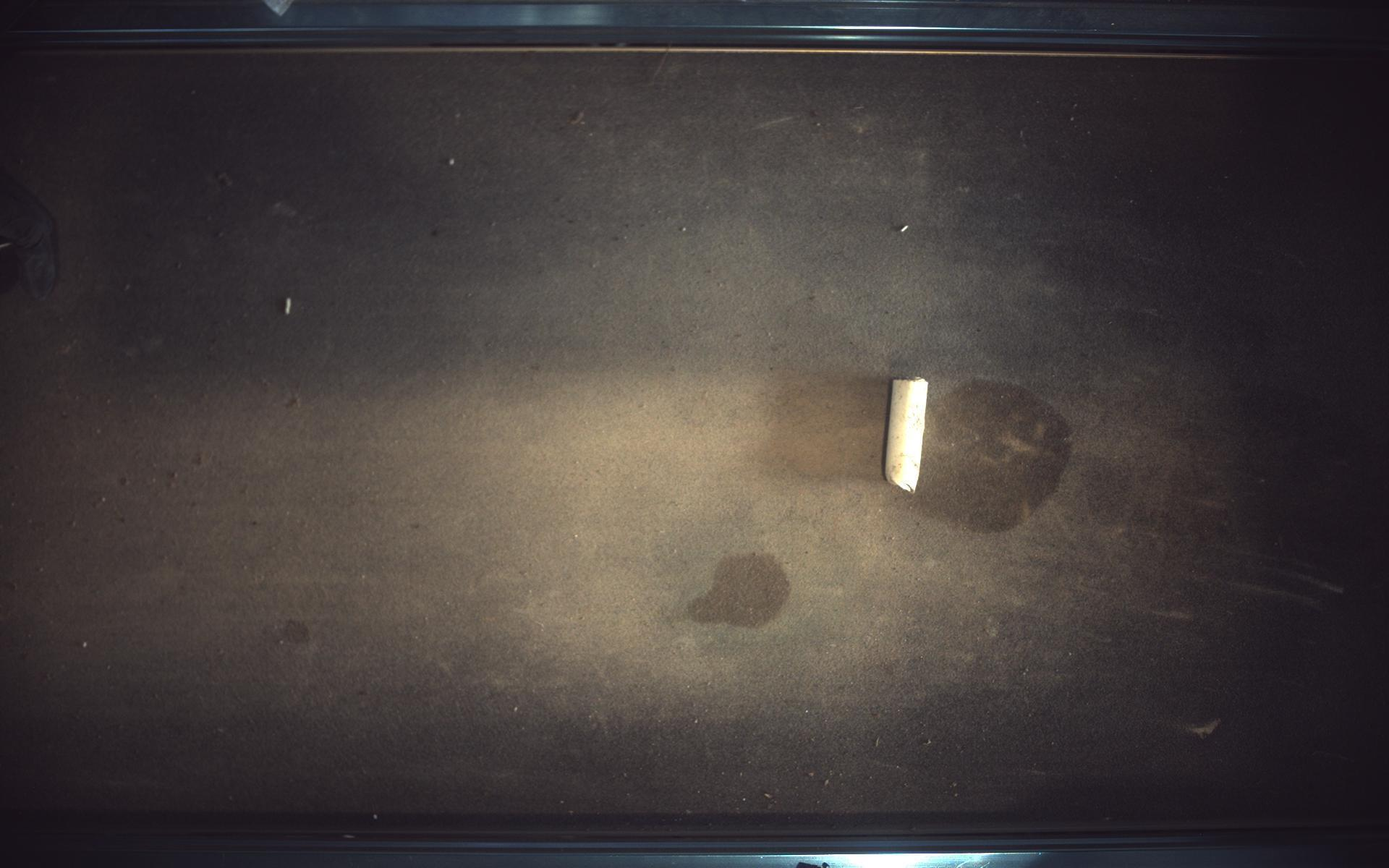pipes: (887, 378, 930, 492)
